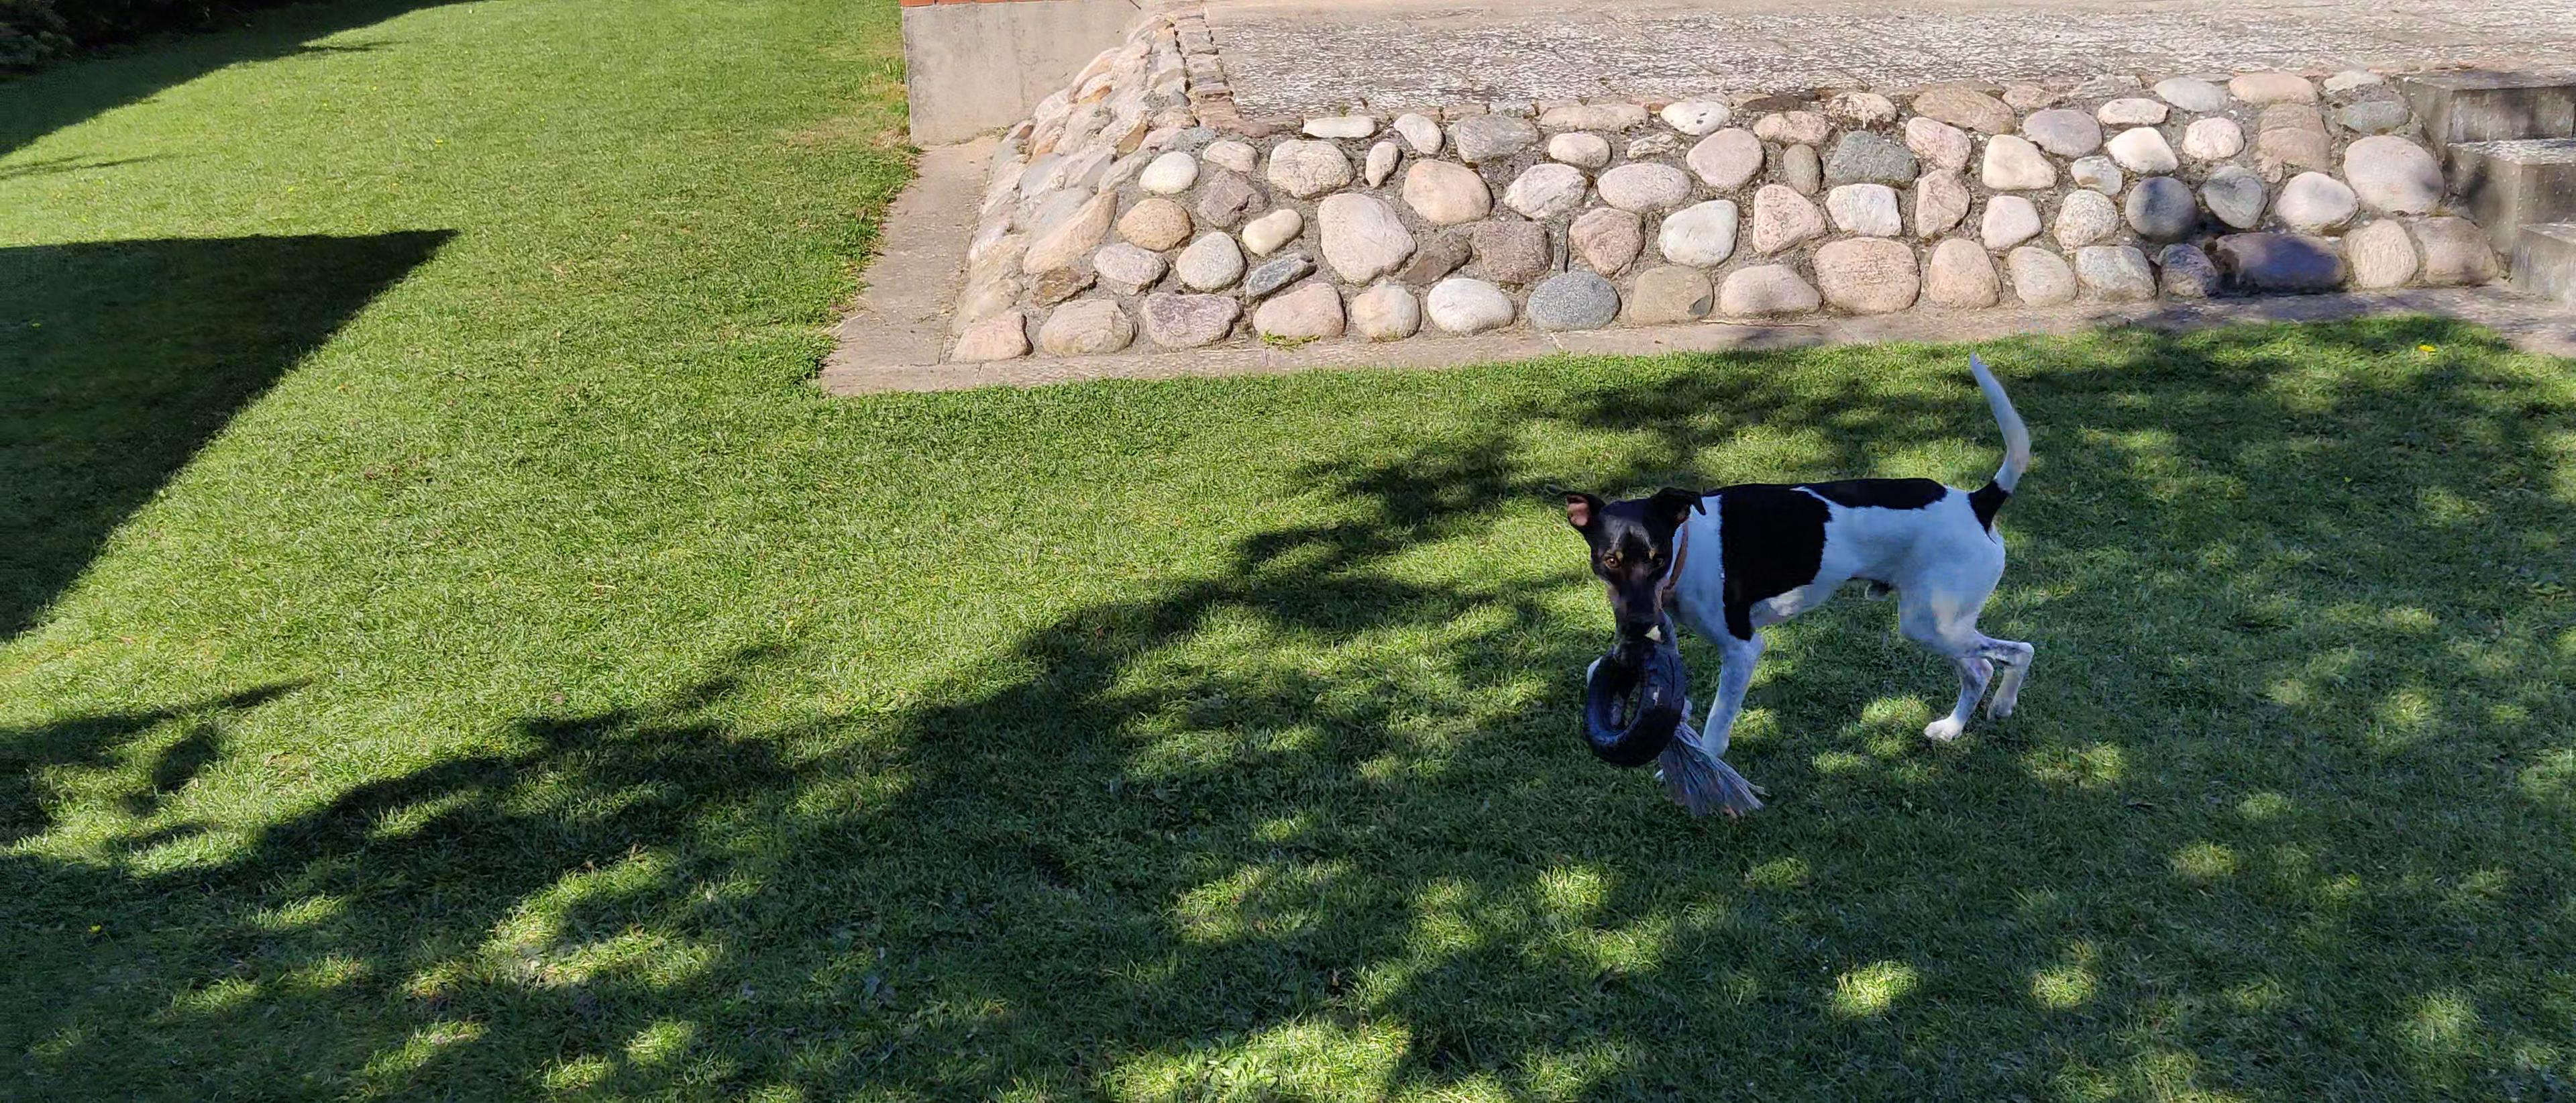Dog: (1536, 329, 2042, 807)
